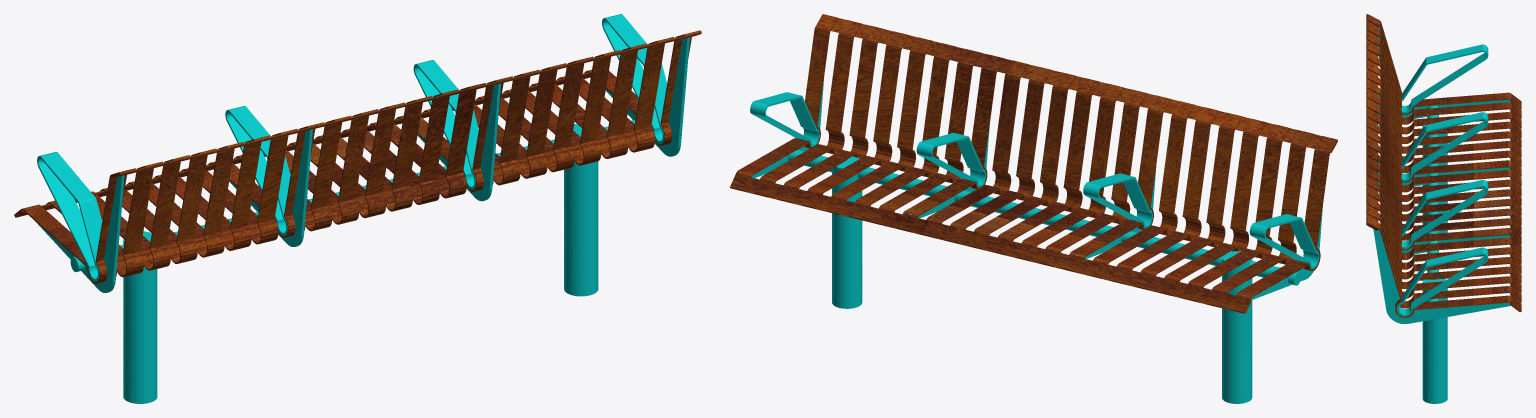
The picture shows the model from 3 angles, left to right: view 1: azimuth 30°, elevation 25°; view 2: azimuth 150°, elevation 25°; view 3: azimuth 270°, elevation 25°; orthographic projection. The views are drawn at different scales.
Visible parts, largest first — view 1: mesh26_mesh26-geometry, mesh3_mesh3-geometry, mesh1_mesh1-geometry, mesh5_mesh5-geometry, mesh2_mesh2-geometry, mesh4_mesh4-geometry; view 2: mesh26_mesh26-geometry, mesh3_mesh3-geometry, mesh1_mesh1-geometry, mesh4_mesh4-geometry, mesh5_mesh5-geometry, mesh2_mesh2-geometry; view 3: mesh26_mesh26-geometry, mesh3_mesh3-geometry, mesh2_mesh2-geometry, mesh1_mesh1-geometry, mesh5_mesh5-geometry, mesh4_mesh4-geometry.
Boxes of the visible parts, <box> form: mesh26_mesh26-geometry: <box>14,30,701,283</box>; mesh3_mesh3-geometry: <box>34,37,689,403</box>; mesh1_mesh1-geometry: <box>37,152,102,281</box>; mesh5_mesh5-geometry: <box>413,60,478,189</box>; mesh2_mesh2-geometry: <box>602,14,667,143</box>; mesh4_mesh4-geometry: <box>225,106,290,235</box>; mesh26_mesh26-geometry: <box>730,14,1337,313</box>; mesh3_mesh3-geometry: <box>751,68,1322,403</box>; mesh1_mesh1-geometry: <box>1249,214,1319,268</box>; mesh4_mesh4-geometry: <box>1083,173,1152,228</box>; mesh5_mesh5-geometry: <box>916,132,986,187</box>; mesh2_mesh2-geometry: <box>750,92,819,146</box>; mesh26_mesh26-geometry: <box>1366,14,1521,317</box>; mesh3_mesh3-geometry: <box>1373,22,1510,403</box>; mesh2_mesh2-geometry: <box>1397,247,1488,316</box>; mesh1_mesh1-geometry: <box>1401,44,1488,113</box>; mesh5_mesh5-geometry: <box>1401,179,1488,248</box>; mesh4_mesh4-geometry: <box>1401,112,1488,181</box>.
Size of the model in its own units: 0.8764 by 0.3951 by 0.2754.
